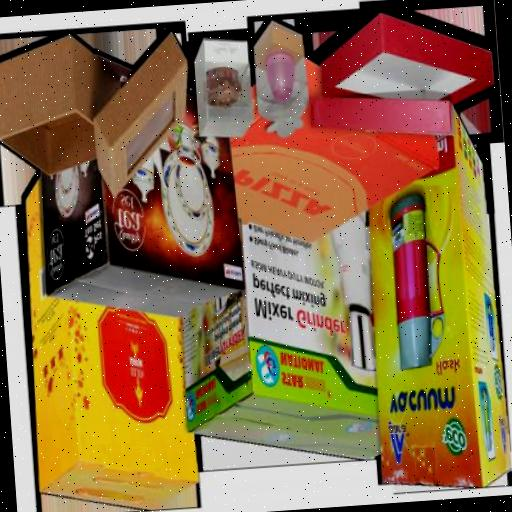cardboard: (17, 170, 200, 512), (357, 115, 512, 495), (172, 210, 386, 472), (31, 88, 246, 329), (224, 48, 444, 252), (316, 6, 496, 120), (0, 30, 126, 179), (88, 30, 196, 197), (308, 88, 454, 150)
